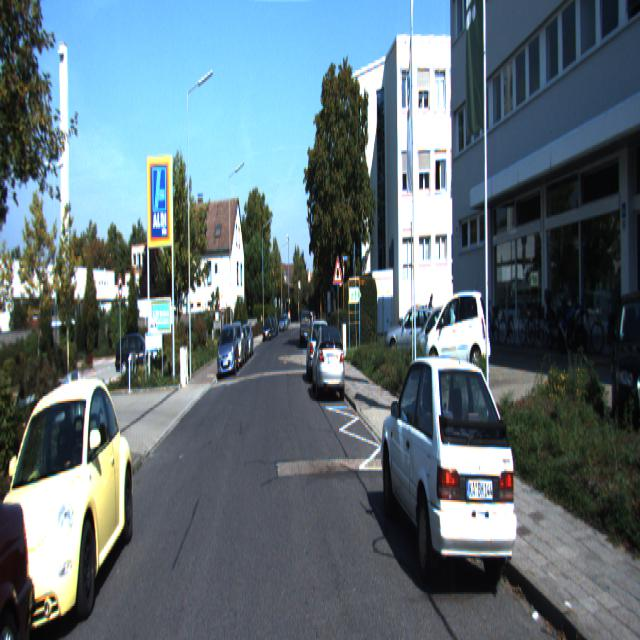Car: (376, 343, 520, 613), (0, 366, 134, 639), (422, 288, 492, 386), (404, 302, 467, 379), (384, 304, 444, 370), (311, 322, 346, 404), (305, 318, 331, 387), (217, 323, 240, 378), (300, 309, 312, 348)
